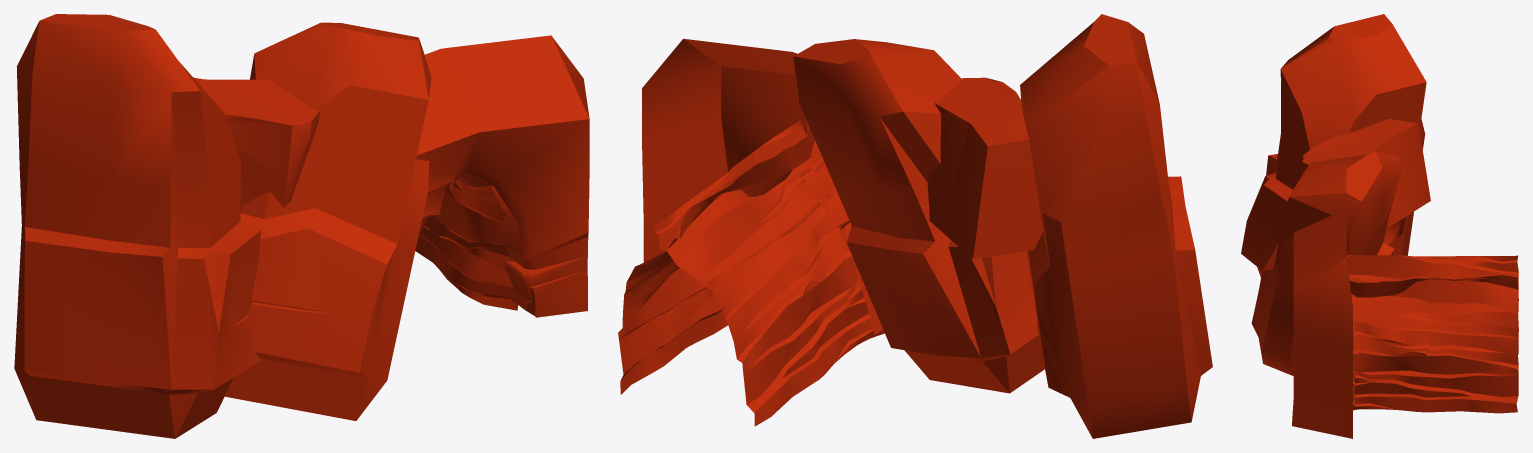
Rendered from SM_Cave_entrance.fbx.
3 renders of one model, left to right at view 1: azimuth 30°, elevation 25°; view 2: azimuth 150°, elevation 25°; view 3: azimuth 270°, elevation 25°, orthographic. The views are drawn at different scales.
Visible parts, largest first — view 1: SM_Cave_Entrance; view 2: SM_Cave_Entrance; view 3: SM_Cave_Entrance.
Part boxes in pixels (x1,y1,x2,y2): SM_Cave_Entrance: [14, 14, 589, 438]; SM_Cave_Entrance: [618, 14, 1212, 438]; SM_Cave_Entrance: [1241, 14, 1518, 438].
Bounding box in the file's own units: 4663 × 3288 × 2853.
